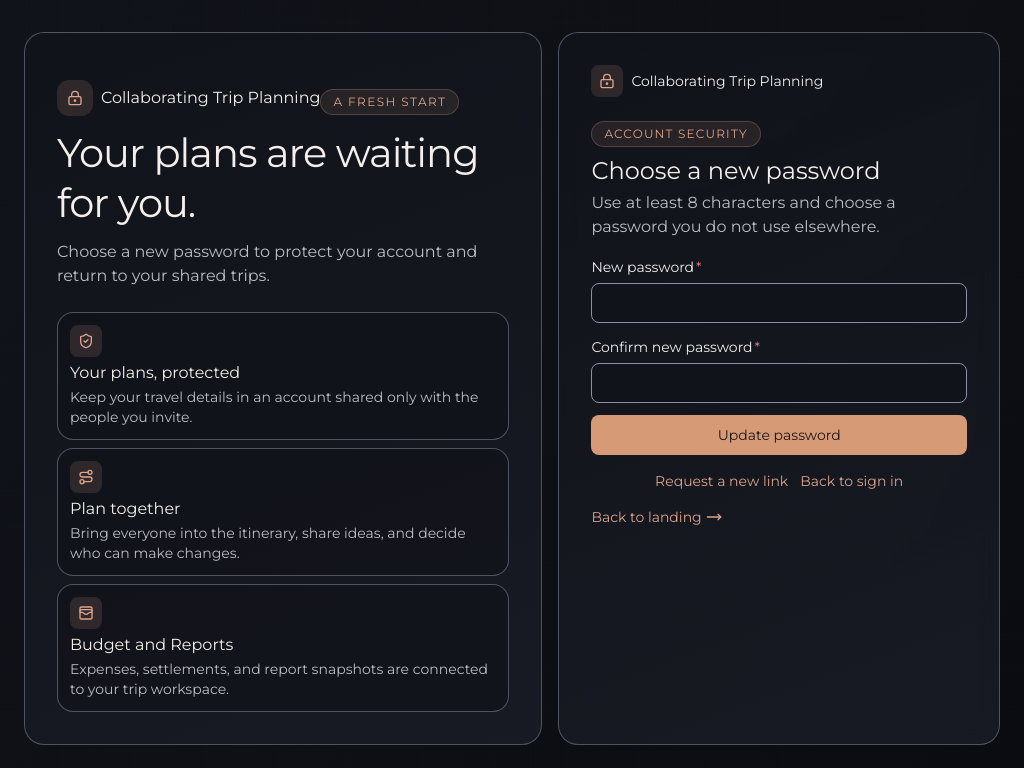
Test: requires matching passwords and clears secrets only after successful reset
Step 1. Type "UniquePassword123!" into the password field labelled "New password" → {"x": 779, "y": 303}, box [591, 283, 967, 323]
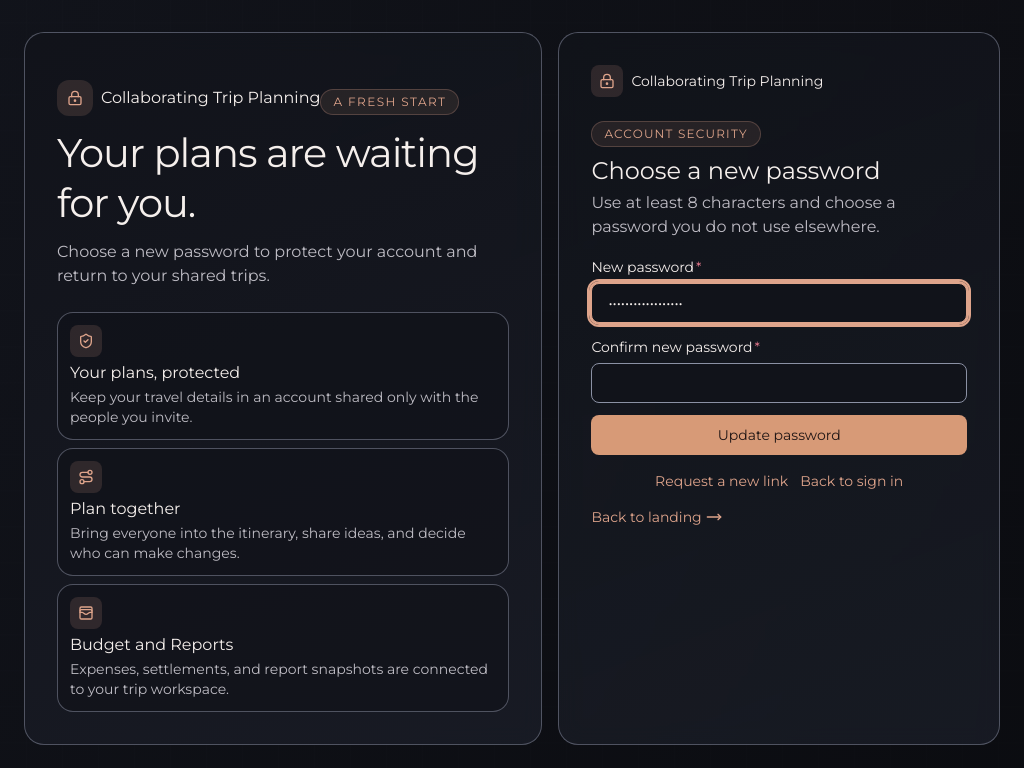
Step 2. Type "DifferentPassword123!" into the password field labelled "Confirm new password" → {"x": 779, "y": 383}, box [591, 363, 967, 403]
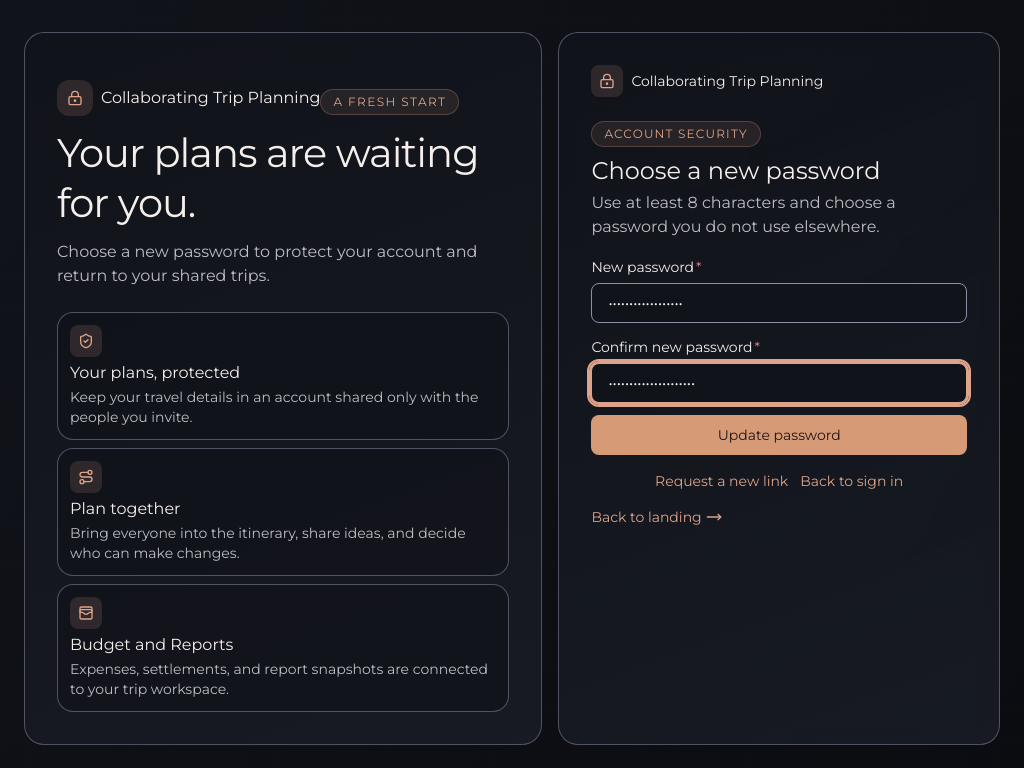
Step 3. Click the button "Update password" → {"x": 779, "y": 435}, box [591, 415, 967, 455]
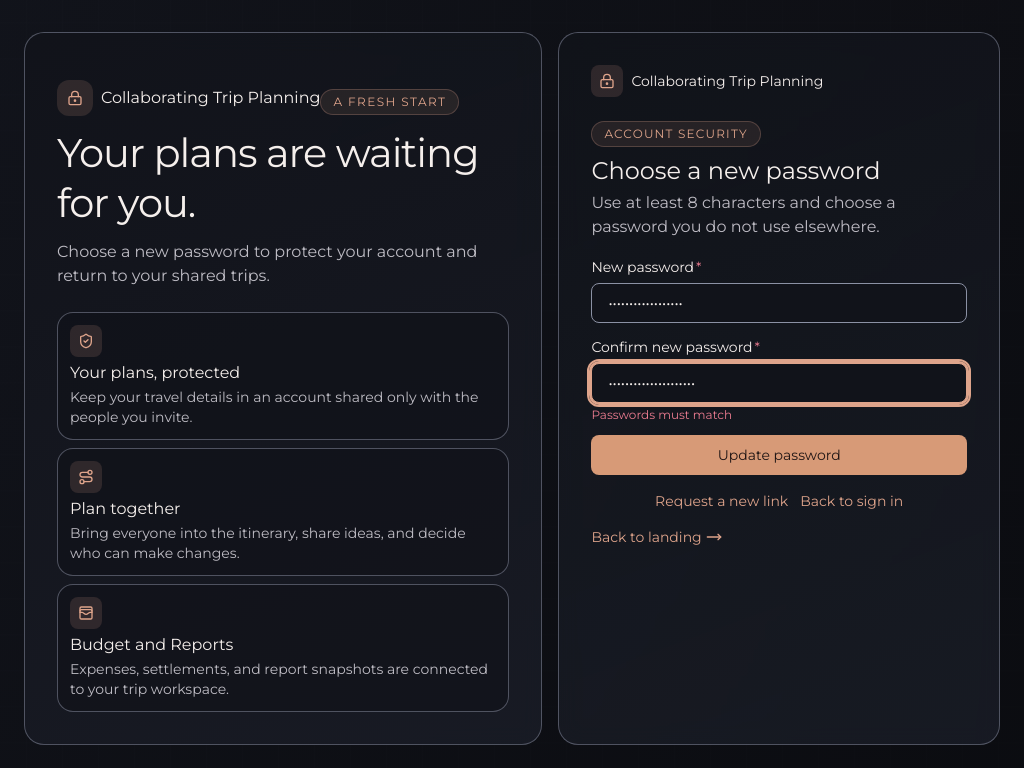
Expected: the text "Passwords must match" is shown, [591, 407, 732, 422]
Step 4. Type "UniquePassword123!" into the password field labelled "Confirm new password" → {"x": 779, "y": 383}, box [591, 363, 967, 403]
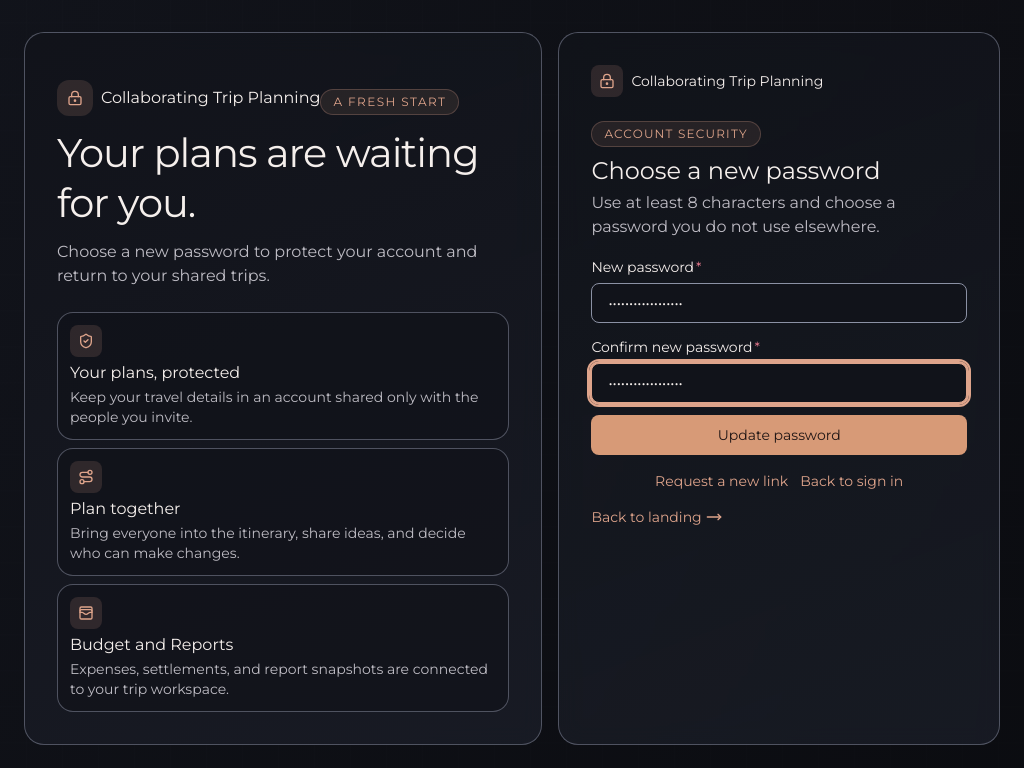
Step 5. Click the button "Update password" → {"x": 779, "y": 435}, box [591, 415, 967, 455]
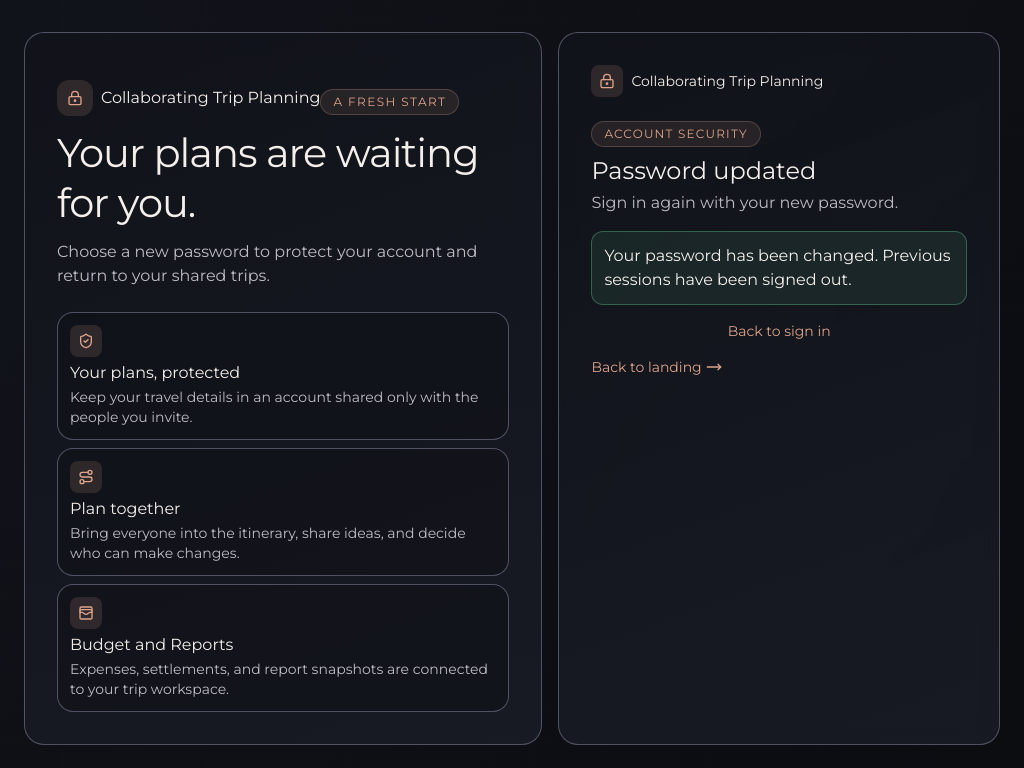
Expected: the message shows "Your password has been changed", [604, 246, 951, 289]
